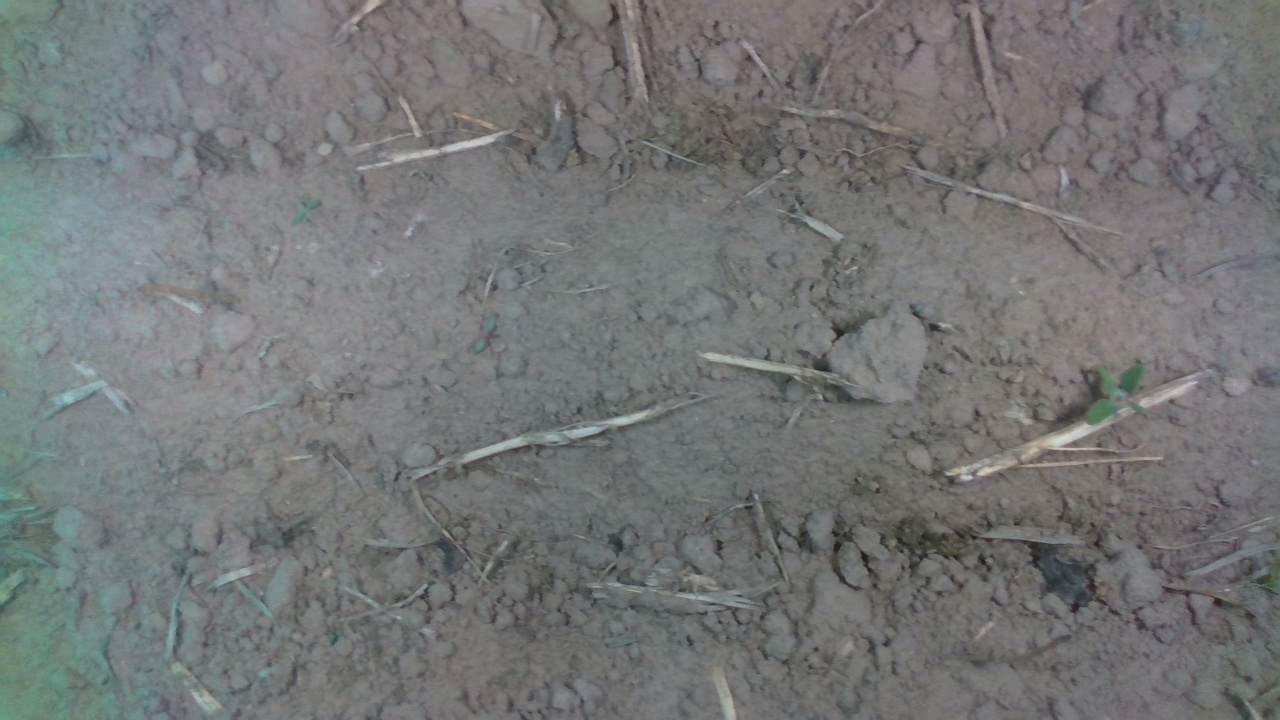weed: (1083, 360, 1150, 427)
